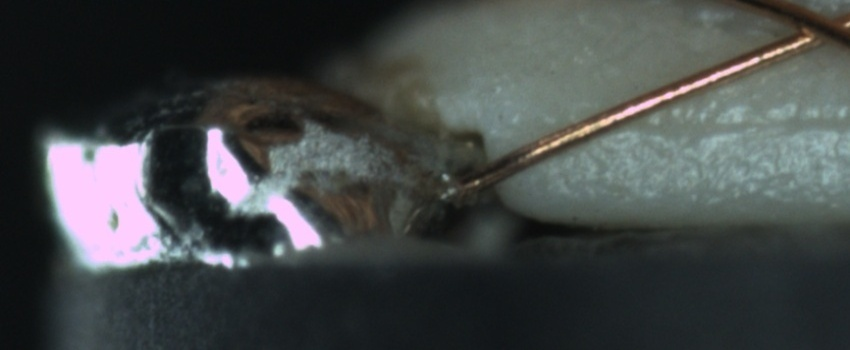CL: (762, 2, 850, 58)
DL: (573, 93, 845, 156)
